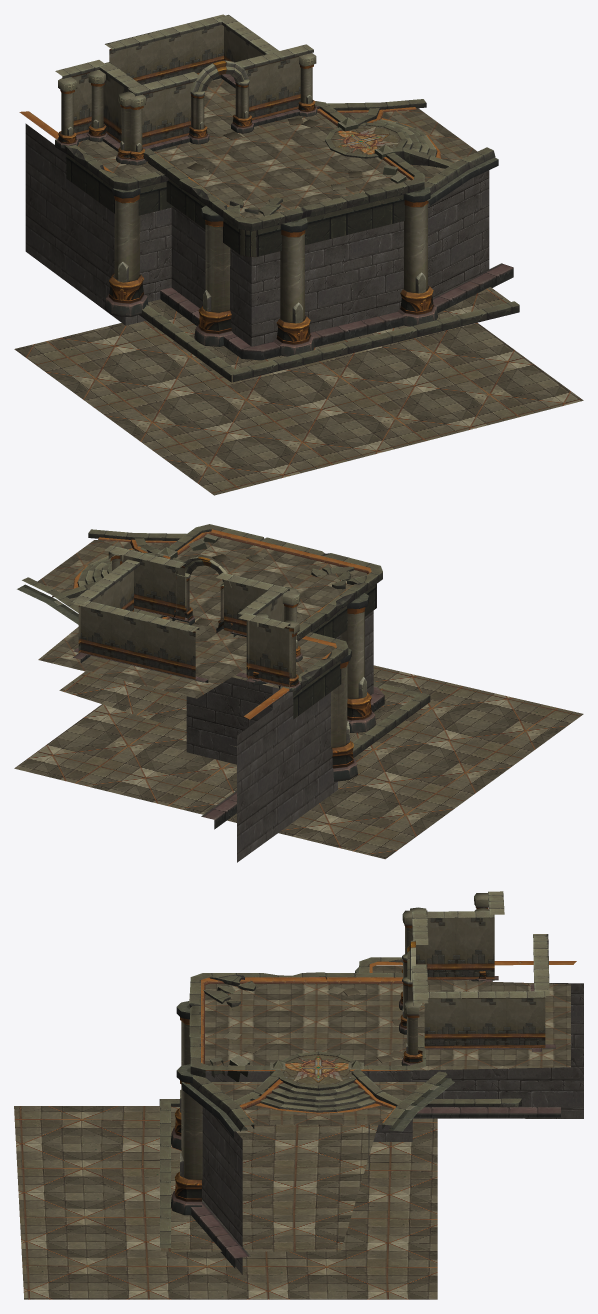
The model's file is section03_guanka10.FBX.
3 renders of one model, top to bottom at view 1: azimuth 30°, elevation 25°; view 2: azimuth 150°, elevation 25°; view 3: azimuth 270°, elevation 25°, orthographic. The views are drawn at different scales.
Parts seen in each view (by area): view 1: section03_guanka10dimian1; view 2: section03_guanka10dimian1; view 3: section03_guanka10dimian1.
Boxes of the visible parts, <box> form: section03_guanka10dimian1: <box>14,14,583,495</box>; section03_guanka10dimian1: <box>14,524,583,862</box>; section03_guanka10dimian1: <box>14,891,583,1299</box>.
Bounding box in the file's own units: 40.35 × 46.55 × 23.62.
